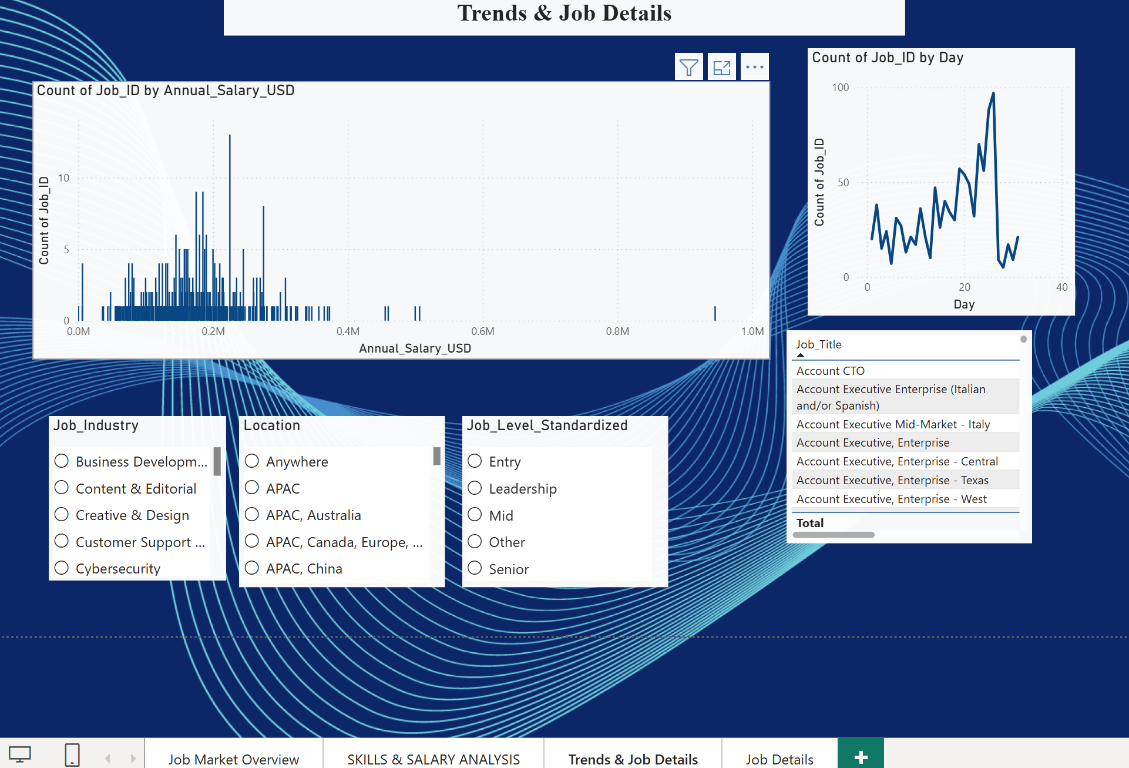

What the dashboard file says about the page in this screenshot:
{"tool":"powerbi","page":{"name":"Trends & Job Details","canvas":[1280,720],"ordinal":2},"visuals":[{"type":"textbox","box":[256.7,0,764.4,46.7],"z":0},{"type":"lineChart","fields":{"Category":["cleaned_job_market_data.Publication_Date.Variation.Date Hierarchy.Day"],"Y":["CountNonNull(cleaned_job_market_data.Job_ID)"]},"box":[912.2,60,300,300],"z":1000},{"type":"columnChart","fields":{"Category":["cleaned_job_market_data.Annual_Salary_USD"],"Y":["CountNonNull(cleaned_job_market_data.Job_ID)"]},"box":[42.2,97.8,827.8,312.2],"z":2000},{"type":"listSlicer","fields":{"Values":["cleaned_job_market_data.Job_Industry"]},"box":[61.1,473.3,198.9,184.4],"z":3000},{"type":"listSlicer","fields":{"Values":["cleaned_job_market_data.Location"]},"box":[274.4,473.3,231.1,192.2],"z":4000},{"type":"listSlicer","fields":{"Values":["cleaned_job_market_data.Job_Level_Standardized"]},"box":[524.4,473.3,231.1,192.2],"z":5000},{"type":"tableEx","fields":{"Values":["cleaned_job_market_data.Job_Title","cleaned_job_market_data.Location","cleaned_job_market_data.Company","Sum(cleaned_job_market_data.Annual_Salary_USD)"]},"box":[888.9,376.7,275.6,238.9],"z":5001}]}

Visuals, with their boxes on the page's 1280x720 design canvas (x1, y1, x2, y2). These are canvas units, not pixel positions in the 1129x768 screenshot, which may show the page scaled, cropped or inside an application window:
textbox: (257, 0, 1021, 47)
lineChart - cleaned_job_market_data.Publication_Date.Variation.Date Hierarchy.Day x CountNonNull(cleaned_job_market_data.Job_ID): (912, 60, 1212, 360)
columnChart - cleaned_job_market_data.Annual_Salary_USD x CountNonNull(cleaned_job_market_data.Job_ID): (42, 98, 870, 410)
listSlicer - cleaned_job_market_data.Job_Industry: (61, 473, 260, 658)
listSlicer - cleaned_job_market_data.Location: (274, 473, 506, 666)
listSlicer - cleaned_job_market_data.Job_Level_Standardized: (524, 473, 756, 666)
tableEx - cleaned_job_market_data.Job_Title x cleaned_job_market_data.Location: (889, 377, 1164, 616)
